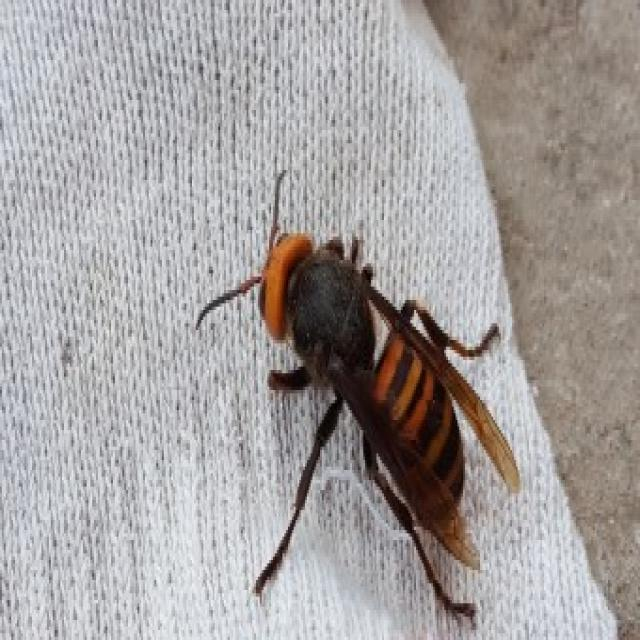Wasp: (215, 200, 502, 622)
